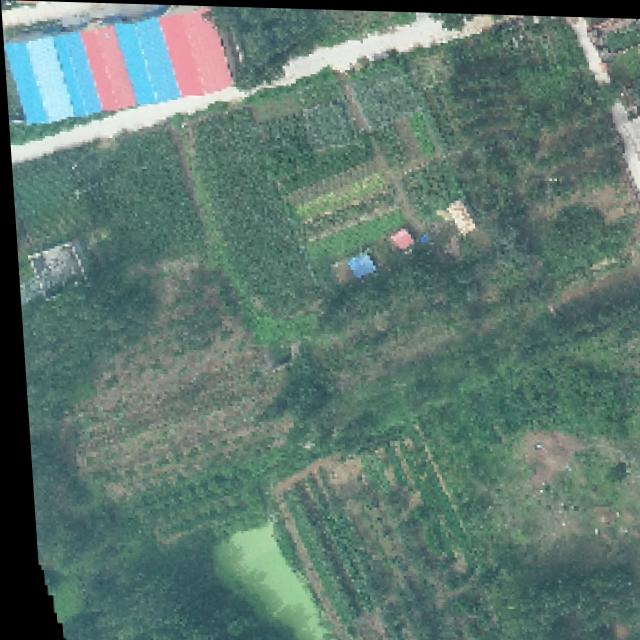Batiment: (159, 7, 229, 94), (3, 36, 72, 124), (115, 19, 178, 101), (80, 27, 133, 109), (53, 34, 96, 115), (434, 198, 471, 233), (343, 251, 372, 275), (386, 227, 410, 248)
